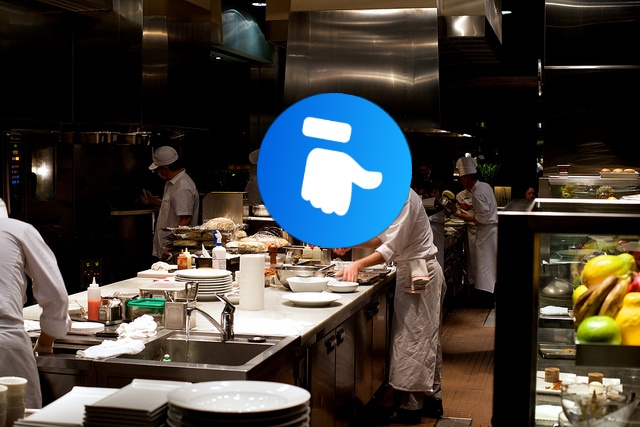like: (257, 93, 412, 248)
